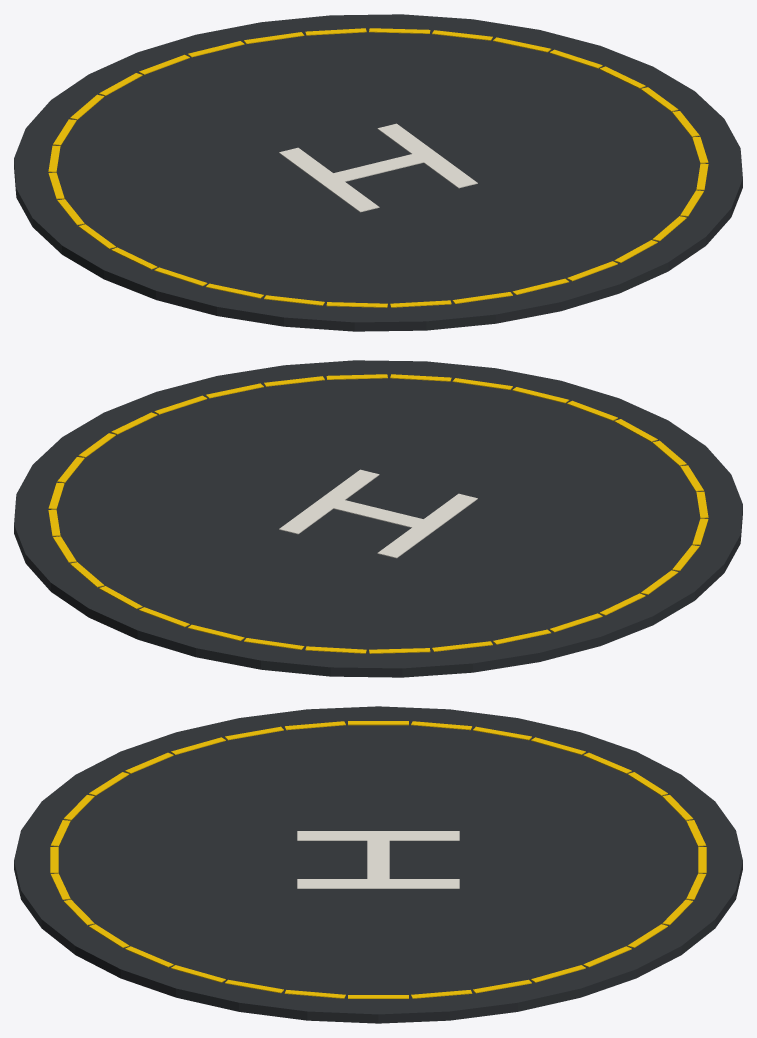
The model's file is Helipad.fbx.
The picture shows the model from 3 angles, top to bottom: view 1: azimuth 30°, elevation 25°; view 2: azimuth 150°, elevation 25°; view 3: azimuth 270°, elevation 25°; orthographic projection.
Visible parts, largest first — view 1: Pad_Base, Pad_H, Pad_H.001, Pad_H.002; view 2: Pad_Base, Pad_H, Pad_H.001, Pad_H.002; view 3: Pad_Base, Pad_H.001, Pad_H, Pad_H.002.
Part boxes in pixels (bbox=[...]): Pad_Base: bbox=[14, 14, 742, 331]; Pad_H: bbox=[279, 147, 379, 212]; Pad_H.001: bbox=[377, 123, 477, 188]; Pad_H.002: bbox=[315, 149, 441, 181]; Pad_Base: bbox=[14, 360, 742, 677]; Pad_H: bbox=[377, 493, 477, 558]; Pad_H.001: bbox=[279, 469, 379, 534]; Pad_H.002: bbox=[333, 500, 423, 527]; Pad_Base: bbox=[14, 706, 742, 1023]; Pad_H.001: bbox=[297, 879, 459, 888]; Pad_H: bbox=[297, 831, 459, 840]; Pad_H.002: bbox=[367, 831, 389, 887].
Size of the model in its own units: 1800 by 27 by 1800.
